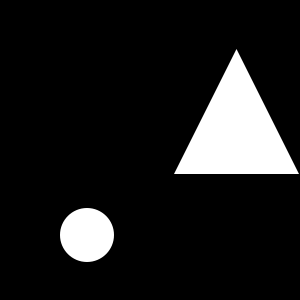rectangle: (60, 208, 114, 262)
triangle: (174, 49, 299, 174), (194, 106, 242, 154)
